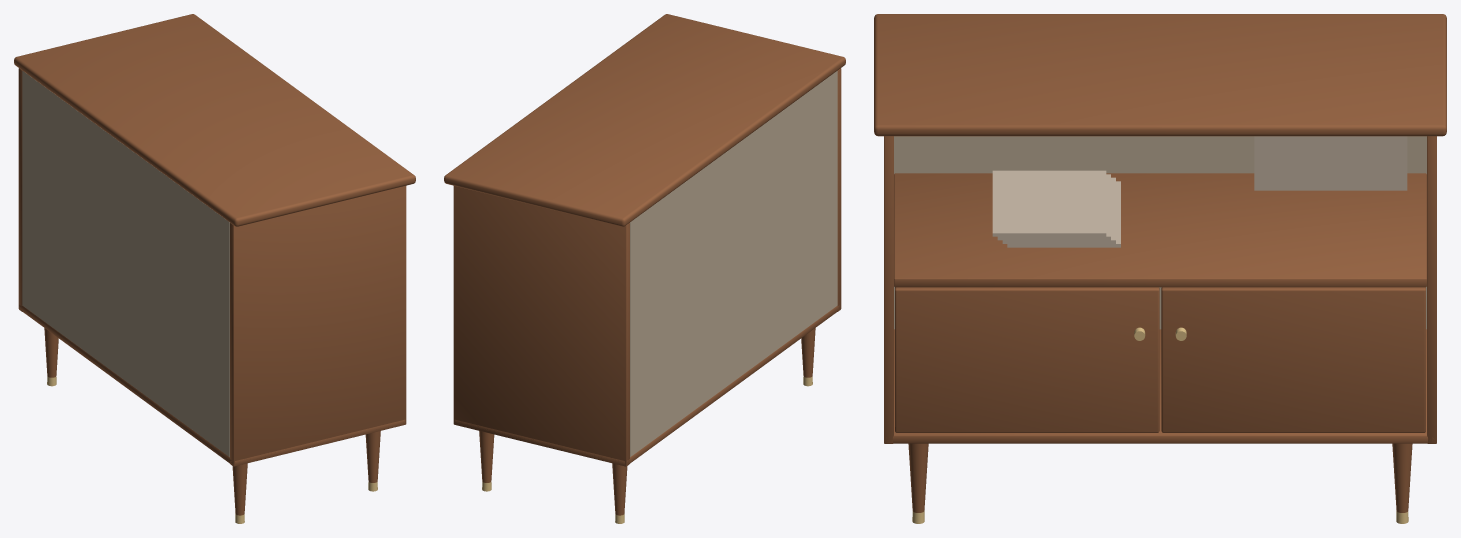
Rendered from tv_stand_soviet.glb.
3 renders of one model, left to right at view 1: azimuth 30°, elevation 25°; view 2: azimuth 150°, elevation 25°; view 3: azimuth 270°, elevation 25°, orthographic. The views are drawn at different scales.
Parts seen in each view (by area): view 1: Stand; view 2: Stand; view 3: Stand, StandThings.
Boxes of the visible parts, box(x1,y1,x2,y2) form: Stand: box(14, 14, 415, 523); Stand: box(444, 14, 845, 523); Stand: box(874, 14, 1446, 523); StandThings: box(992, 136, 1407, 247).
Bounding box in the file's own units: 0.545 × 0.92 × 1.16.
